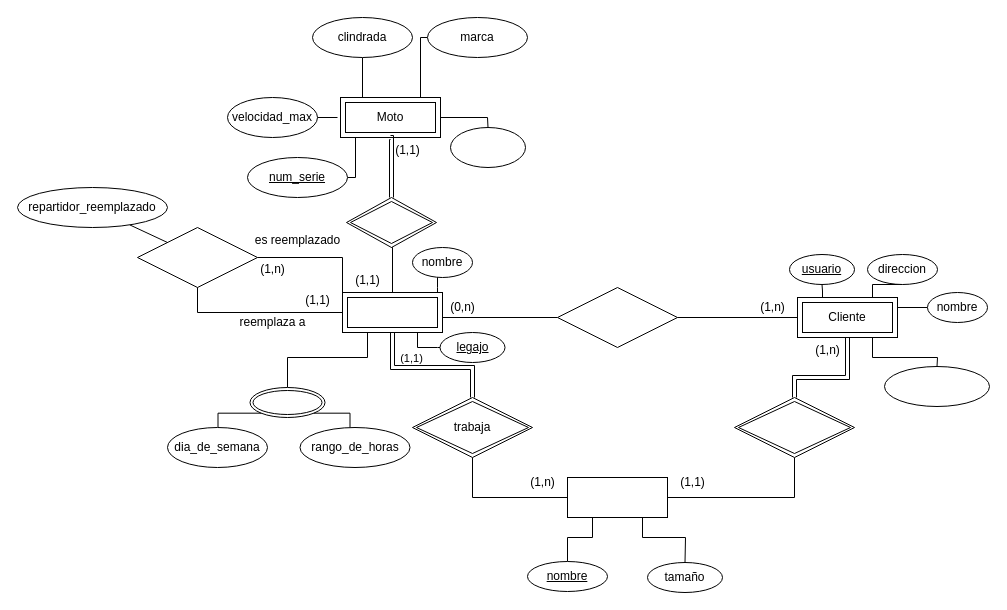
Image size: 1007x610. Some labels were removed from this diagram. Here are the shapes that lost their labels. From the top down, the box of each, then its label:
(450, 126, 526, 168): modelo
(346, 196, 436, 248): asignada
(136, 226, 258, 288): reemplaza
(342, 292, 442, 332): Repartidor
(556, 286, 678, 348): atiende
(249, 386, 325, 418): horarios
(884, 366, 990, 406): fecha_nacimiento
(734, 396, 854, 458): Pertenece
(566, 476, 668, 518): Zona
